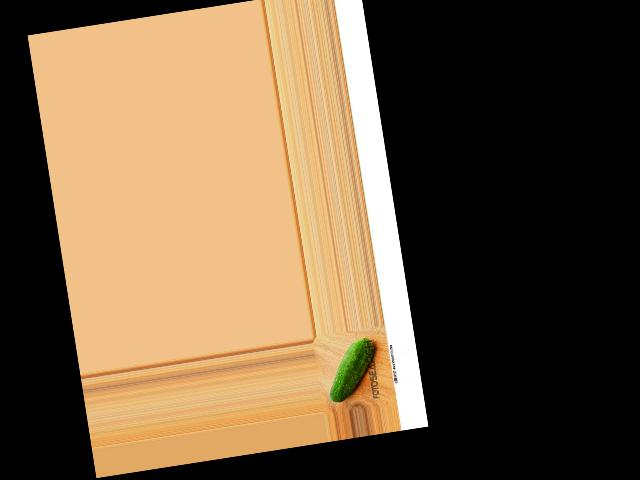cucumber: (321, 335, 381, 403)
